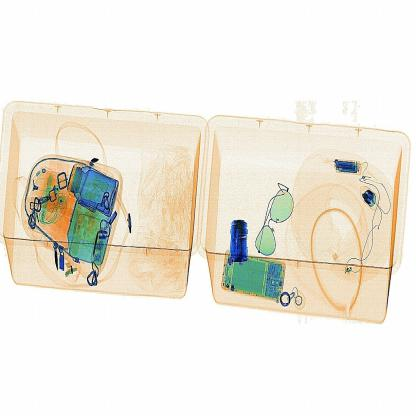scissors: (223, 204, 250, 262)
